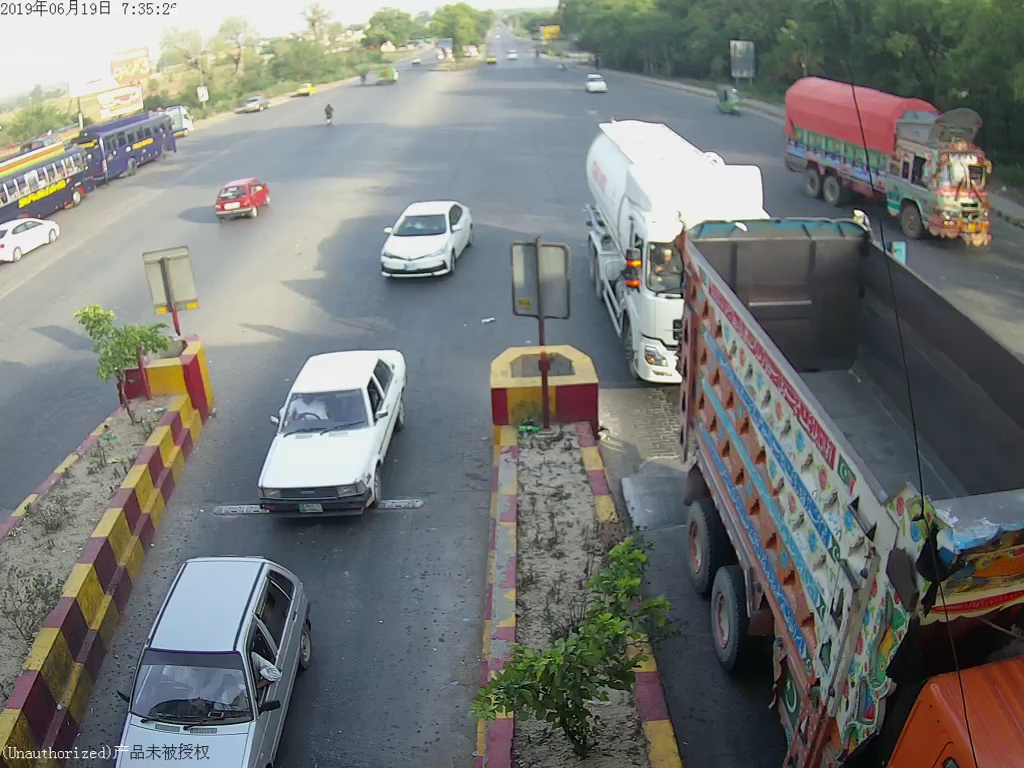Cat-1: (259, 352, 409, 520), (382, 191, 475, 281)
